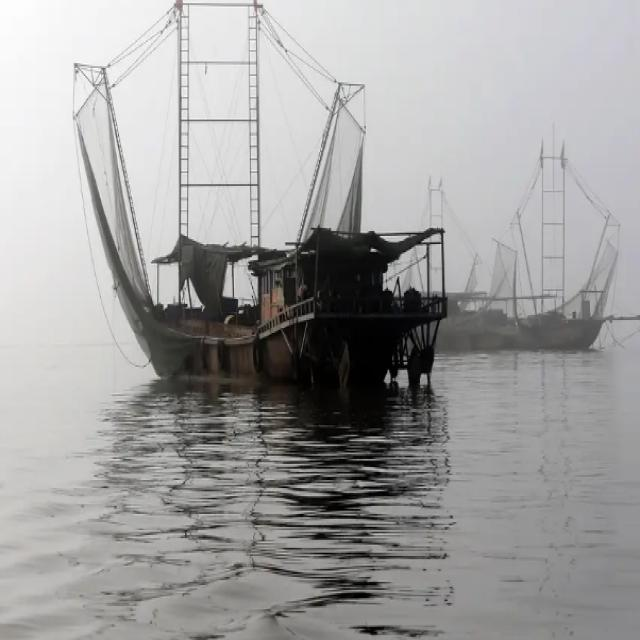fishing boat: (128, 150, 440, 388), (410, 175, 640, 352)
